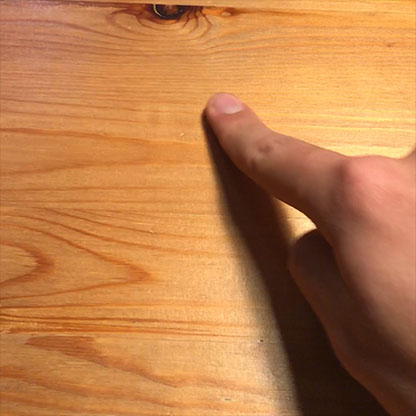fingertip: (197, 82, 253, 128)
